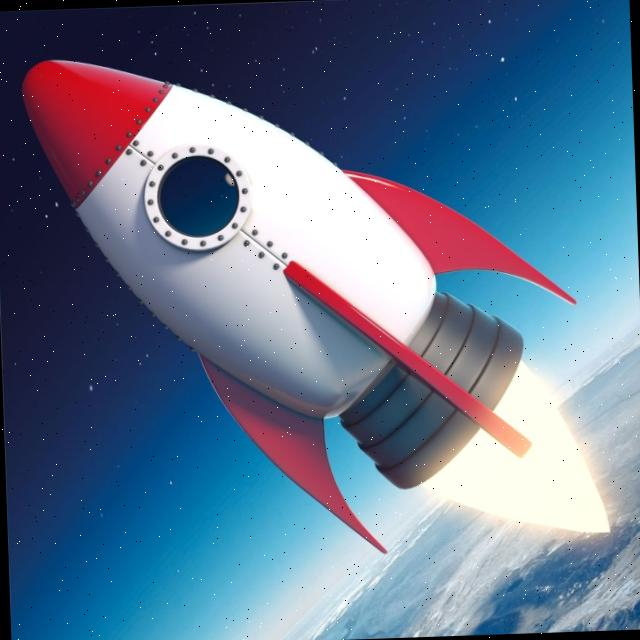rocket: (7, 39, 589, 554)
